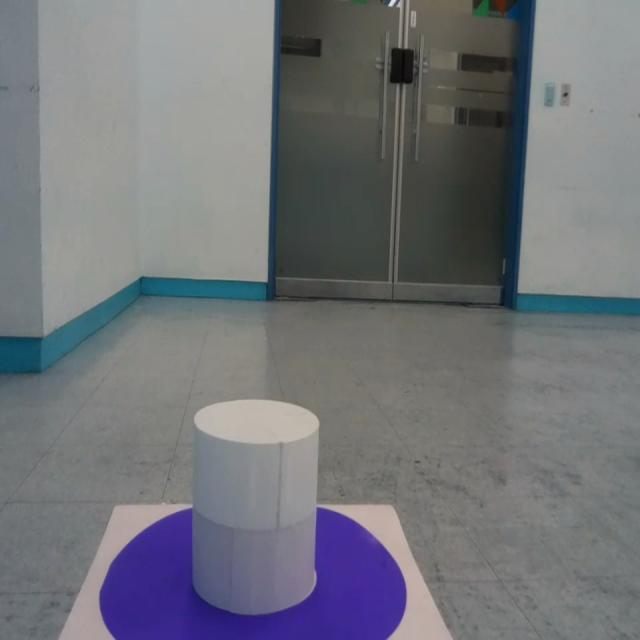cylinder: (191, 400, 321, 614)
